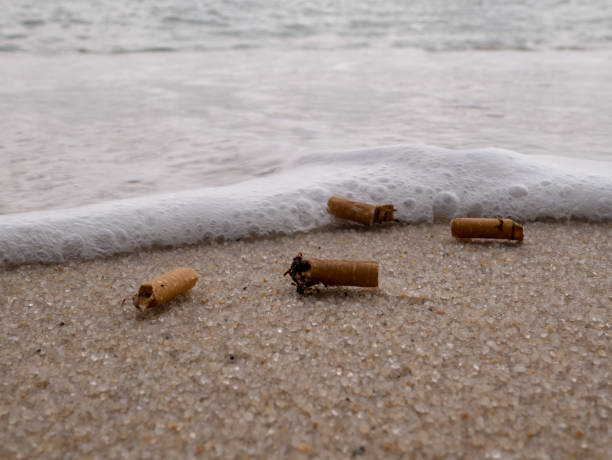cigarette: (287, 253, 383, 293), (130, 268, 200, 309), (328, 192, 394, 228), (449, 217, 525, 247)
